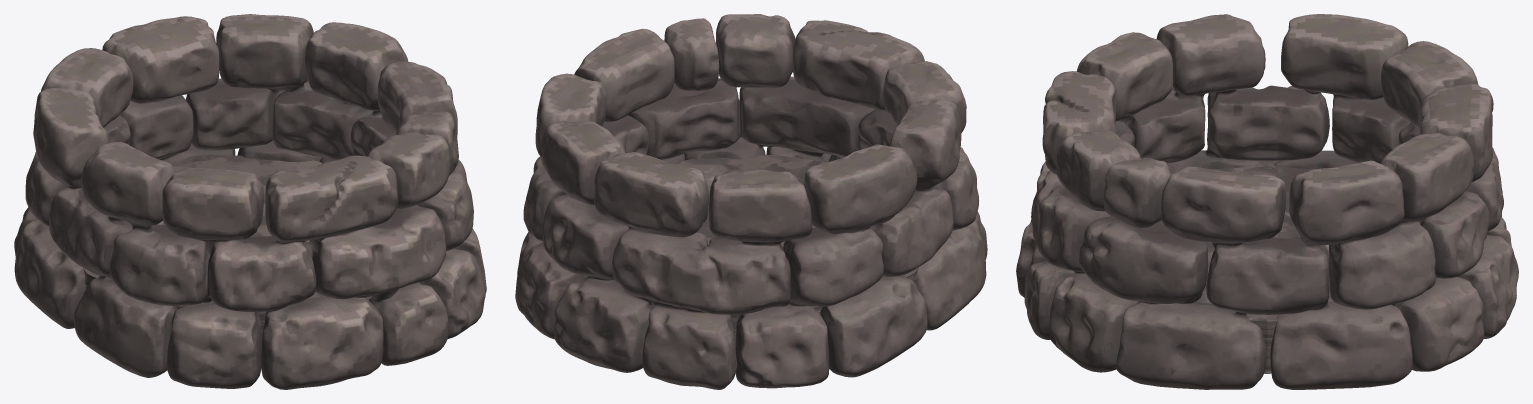
The model's file is well.glb.
3 renders of one model, left to right at view 1: azimuth 30°, elevation 25°; view 2: azimuth 150°, elevation 25°; view 3: azimuth 270°, elevation 25°, orthographic. The views are drawn at different scales.
Visible parts, largest first — view 1: Mesh_0; view 2: Mesh_0; view 3: Mesh_0.
Part boxes in pixels (x1,y1,x2,y2): Mesh_0: [14, 14, 486, 389]; Mesh_0: [515, 14, 987, 389]; Mesh_0: [1016, 14, 1518, 389].
Bounding box in the file's own units: 1.66 × 0.854 × 1.9.
Materials: 1 (1 with a texture image).
